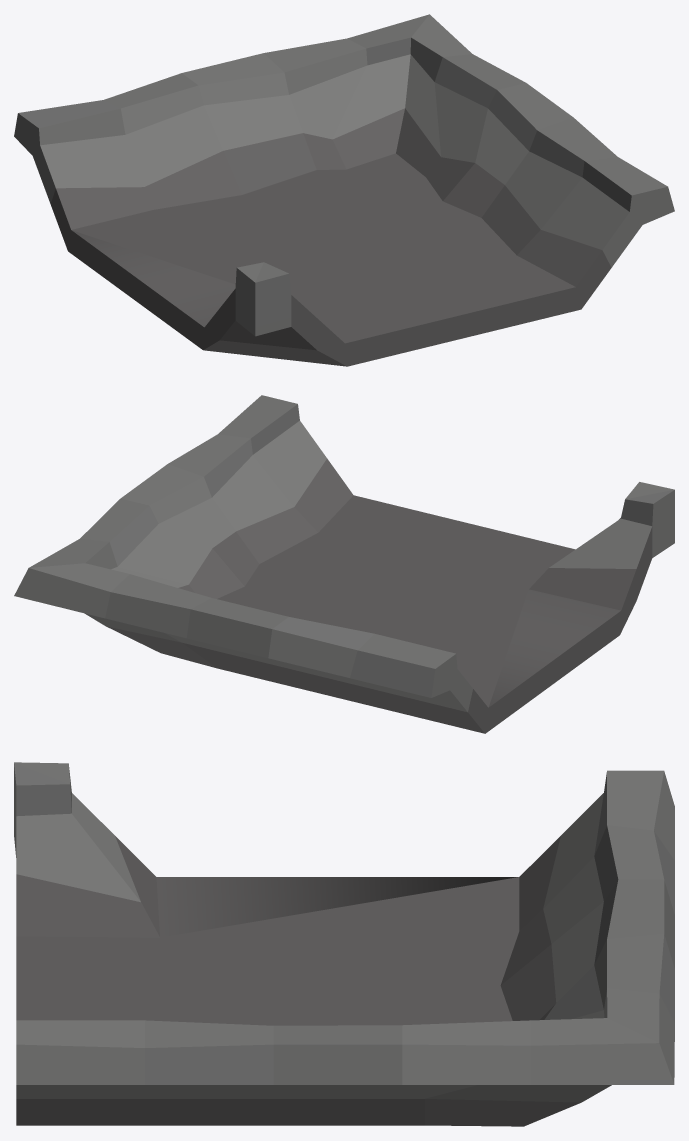
The model's file is SM_Env_Sewer_Canal_Corner_01.fbx.
3 renders of one model, top to bottom at view 1: azimuth 30°, elevation 25°; view 2: azimuth 150°, elevation 25°; view 3: azimuth 270°, elevation 25°, orthographic. The views are drawn at different scales.
Parts seen in each view (by area): view 1: SM_Env_Sewer_Canal_Corner_01; view 2: SM_Env_Sewer_Canal_Corner_01; view 3: SM_Env_Sewer_Canal_Corner_01.
Part boxes in pixels (x1=…): SM_Env_Sewer_Canal_Corner_01: x1=14, y1=14, x2=674, y2=366; SM_Env_Sewer_Canal_Corner_01: x1=14, y1=395, x2=674, y2=733; SM_Env_Sewer_Canal_Corner_01: x1=14, y1=762, x2=674, y2=1126.
Bounding box in the file's own units: 5.14 × 1.25 × 5.14.
